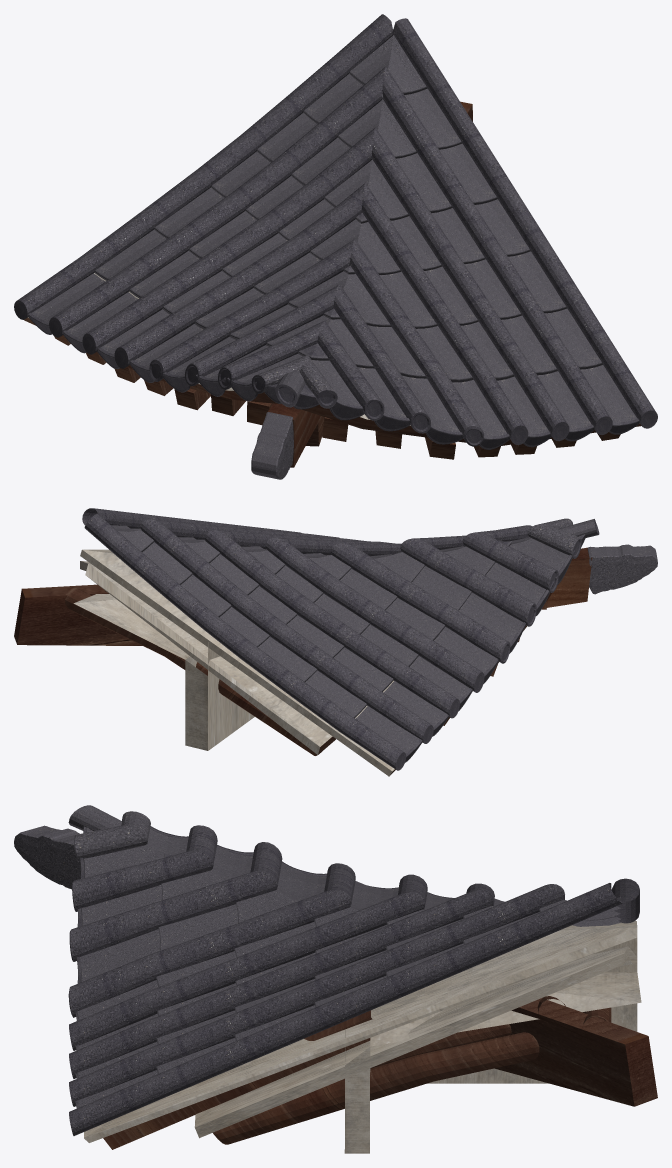
The model's file is SM_R_RoofCorner_2.fbx.
The picture shows the model from 3 angles, top to bottom: view 1: azimuth 30°, elevation 25°; view 2: azimuth 150°, elevation 25°; view 3: azimuth 270°, elevation 25°; orthographic projection. The views are drawn at different scales.
Visible parts, largest first — view 1: SM_R_RoofCorner_2; view 2: SM_R_RoofCorner_2; view 3: SM_R_RoofCorner_2.
Part boxes in pixels (bbox=[...]): SM_R_RoofCorner_2: bbox=[14, 14, 657, 479]; SM_R_RoofCorner_2: bbox=[14, 508, 657, 776]; SM_R_RoofCorner_2: bbox=[14, 805, 657, 1153].
Size of the model in its own units: 593 by 613 by 287.
4 materials, 4 textured.
